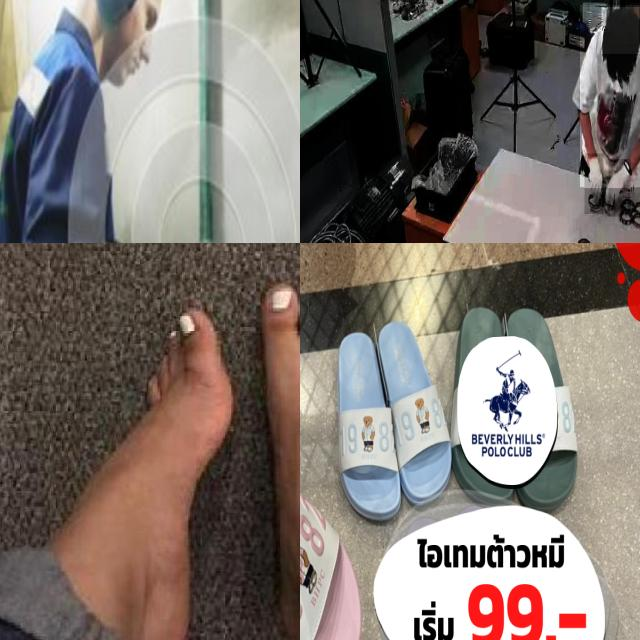Barefoots: (260, 269, 300, 552)
Ear-protection: (81, 0, 174, 92)
Sandals: (320, 308, 454, 526)
hand_glove: (609, 159, 631, 217), (584, 153, 604, 215)
head_nohelmet: (601, 7, 640, 55)
person: (0, 0, 192, 243), (579, 5, 640, 188)
